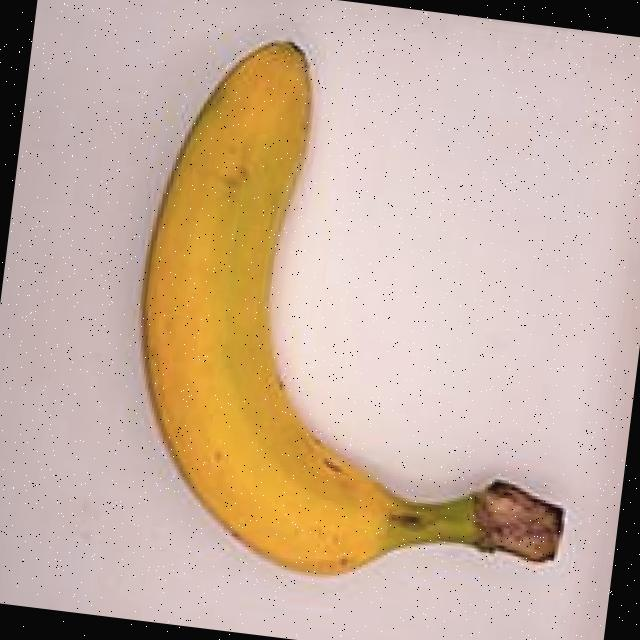Ripe: (44, 0, 639, 626)
